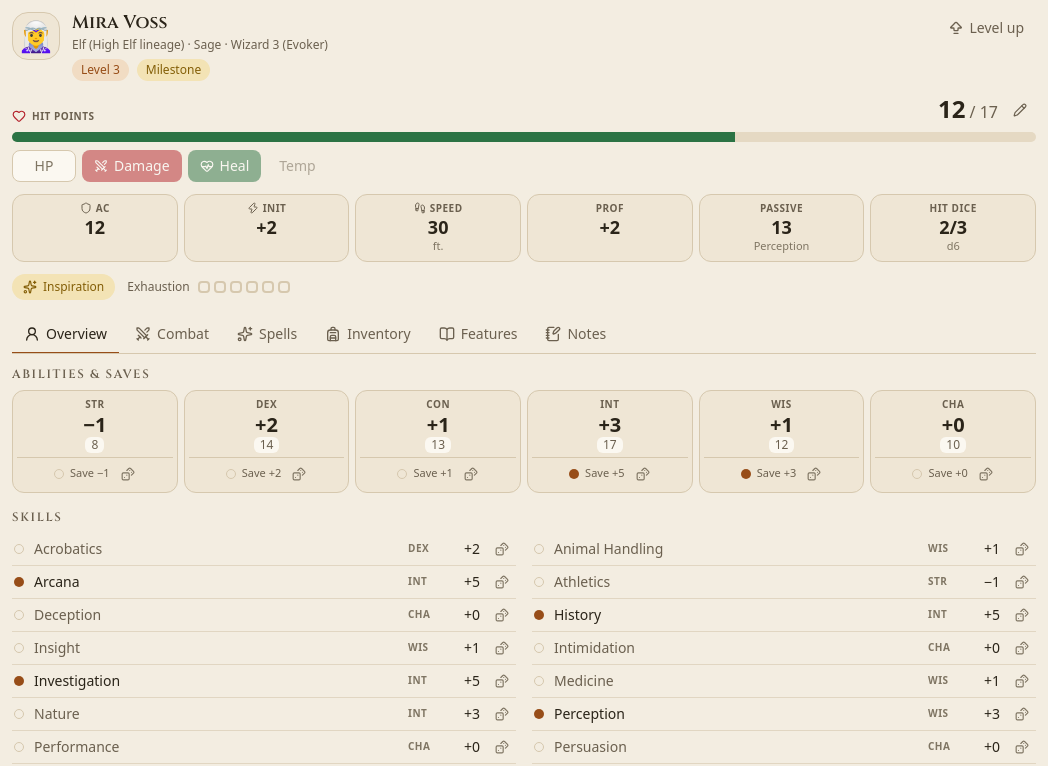
Test: features from the player’s books › shows the book badge and the text when this device has it
Click the tab "Features" at (478, 334), box [427,316,530,354]
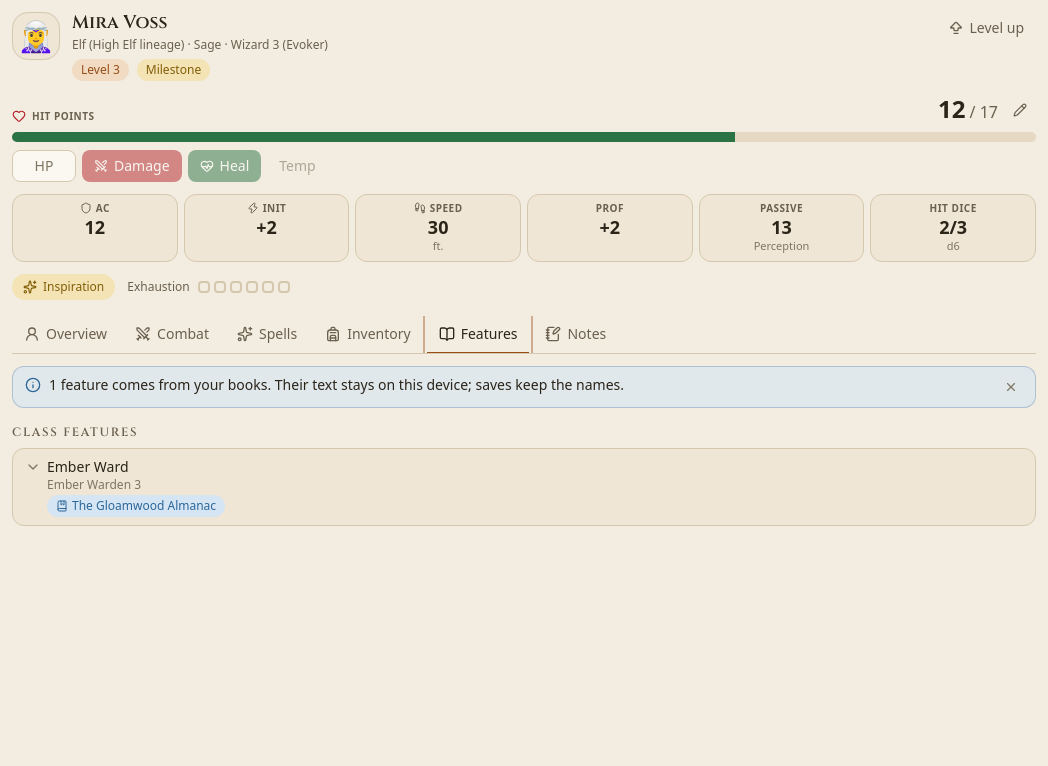
Click the button "Ember Ward Ember Warden 3 The Gloamwood Almanac" at (88, 466), box [25,456,1023,516]
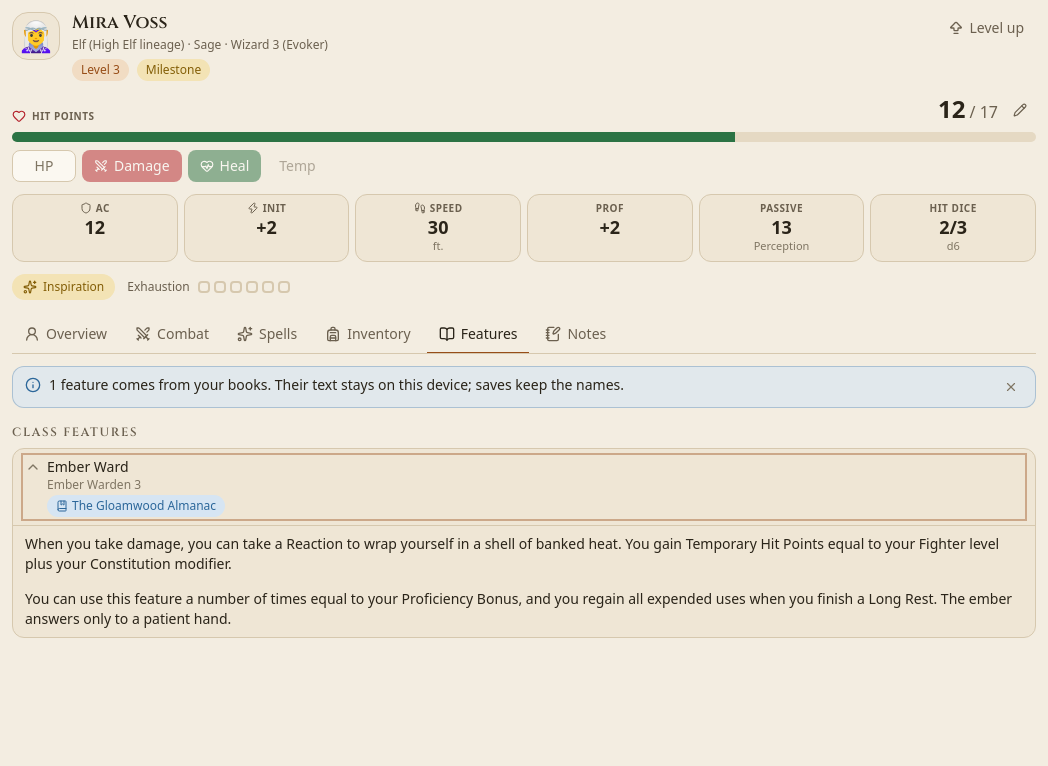
Check: the text "banked heat" is shown, box [25,534,999,572]
